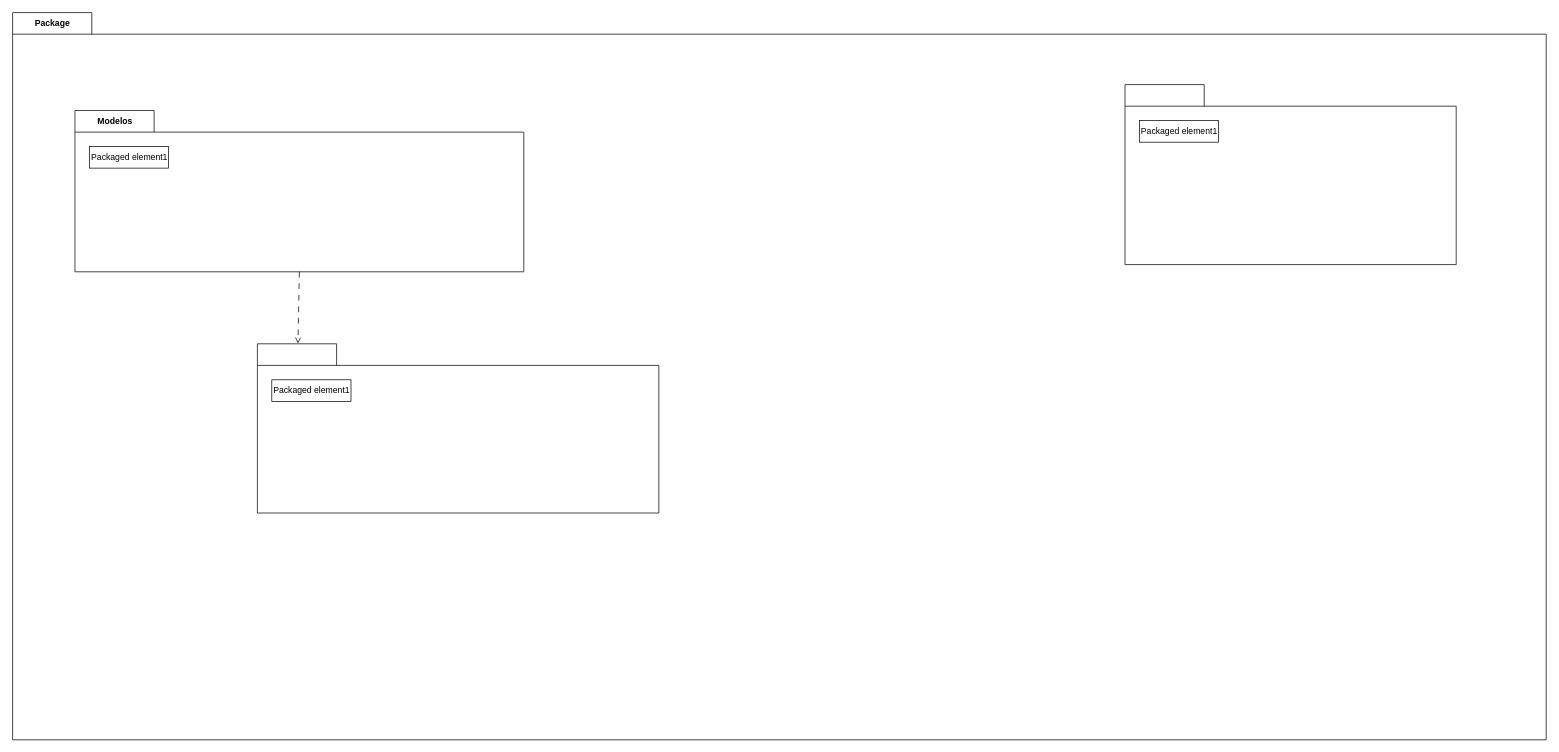
Some shapes in this 1559 by 752 pixel diagram are drawn without their labels. The shapes that lost their labels are listed below. From the top down, each one's centre as x and y in pixels, then its label:
pixel 1290 174: Controladores
pixel 458 428: Reporsitorios
